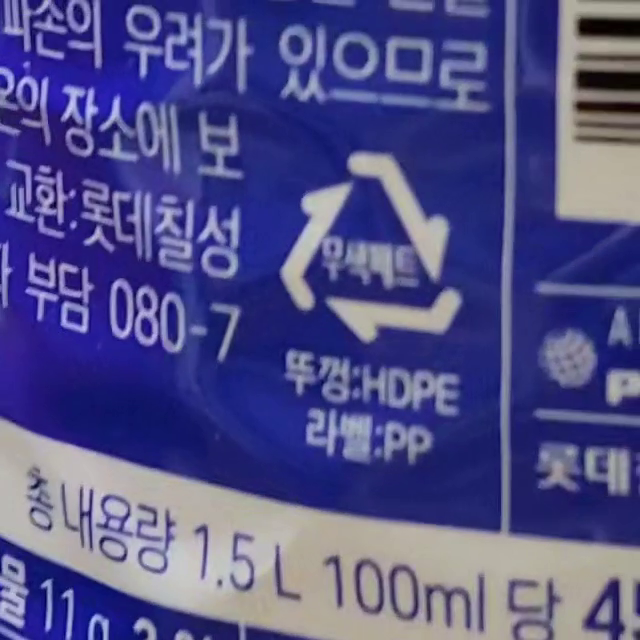ColorlessPet: (282, 153, 461, 342)
